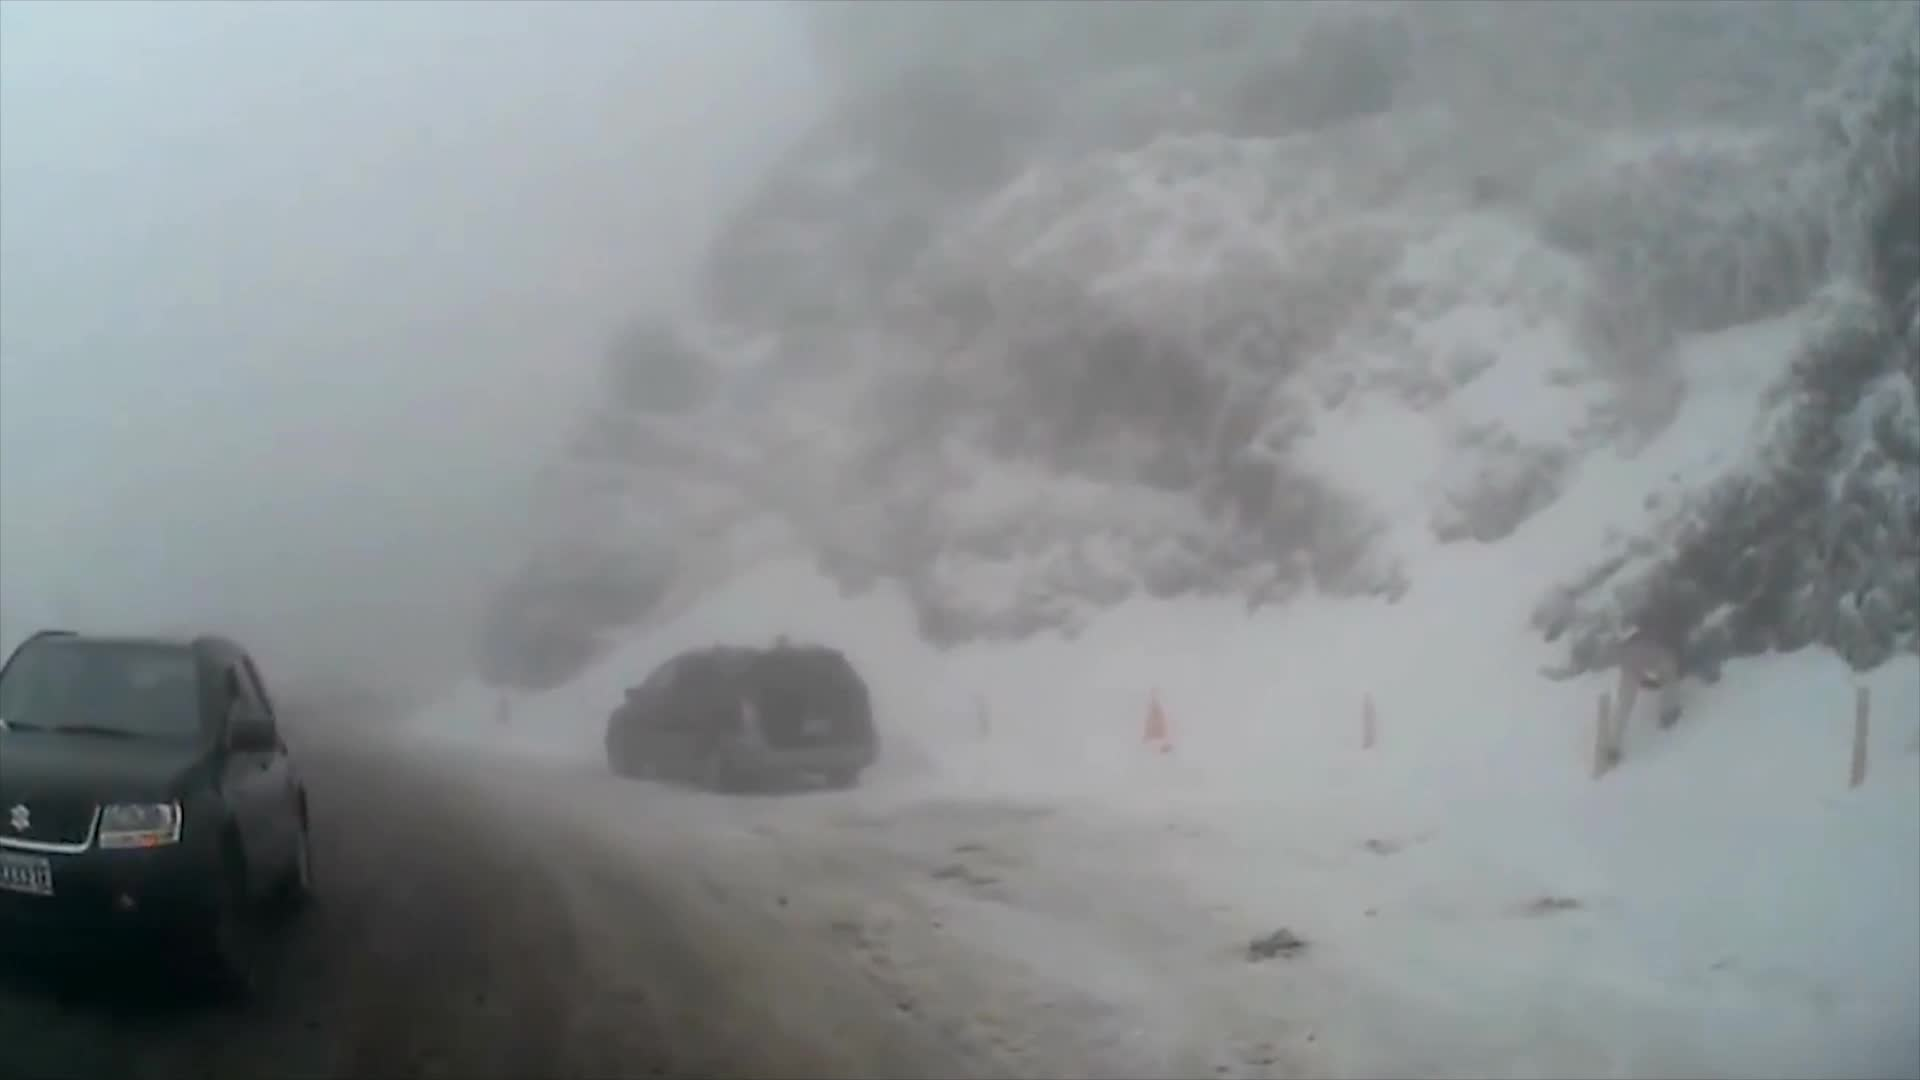vehicle: (0, 626, 316, 1011), (604, 642, 876, 791)
